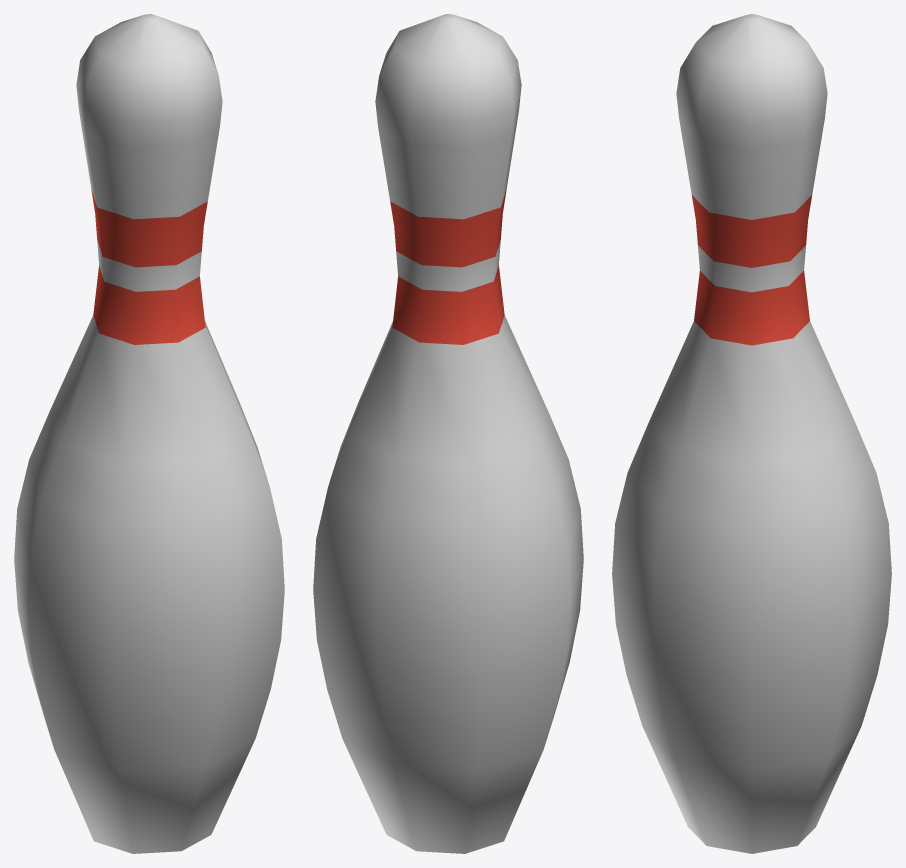
Rendered from bowling_pin_.fbx.
The picture shows the model from 3 angles, left to right: view 1: azimuth 30°, elevation 25°; view 2: azimuth 150°, elevation 25°; view 3: azimuth 270°, elevation 25°; orthographic projection.
Parts seen in each view (by area): view 1: Cylinder; view 2: Cylinder; view 3: Cylinder.
Part boxes in pixels (box(x1,y1,x2,y2)): Cylinder: box(14, 14, 284, 853); Cylinder: box(313, 14, 583, 853); Cylinder: box(612, 14, 891, 853).
Bounding box in the file's own units: 110 × 352 × 110.
